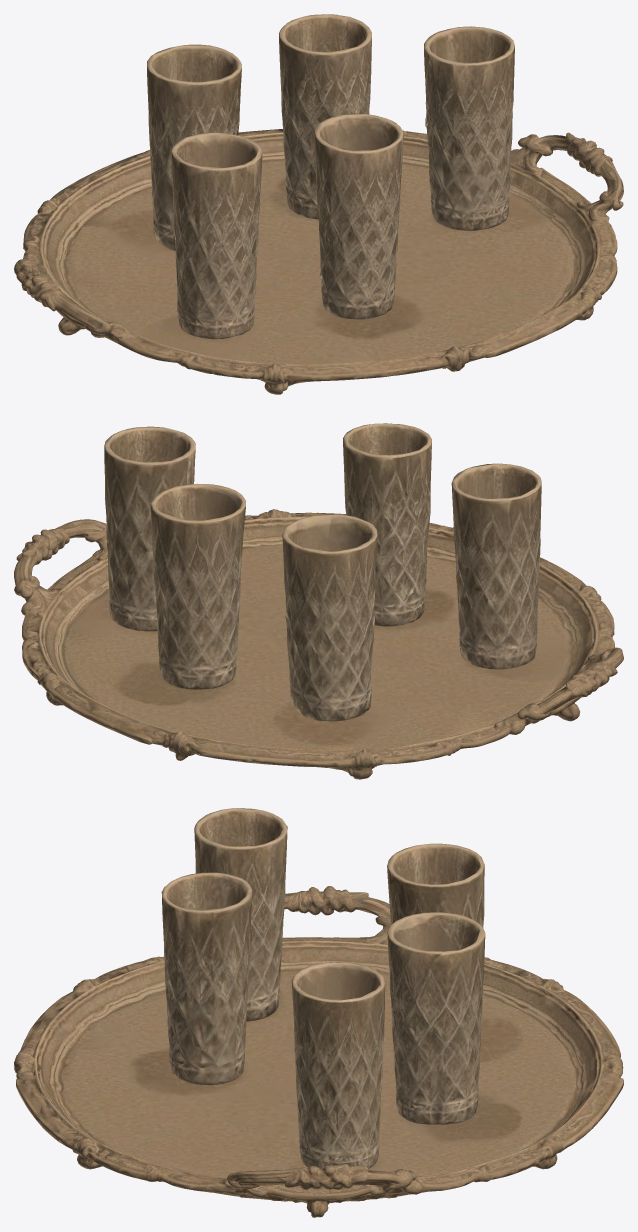
Rendered from tray.glb.
3 renders of one model, top to bottom at view 1: azimuth 30°, elevation 25°; view 2: azimuth 150°, elevation 25°; view 3: azimuth 270°, elevation 25°, orthographic. The views are drawn at different scales.
Bounding box in the file's own units: 1.9 × 0.591 × 1.7.
Materials: 1 (1 with a texture image).
